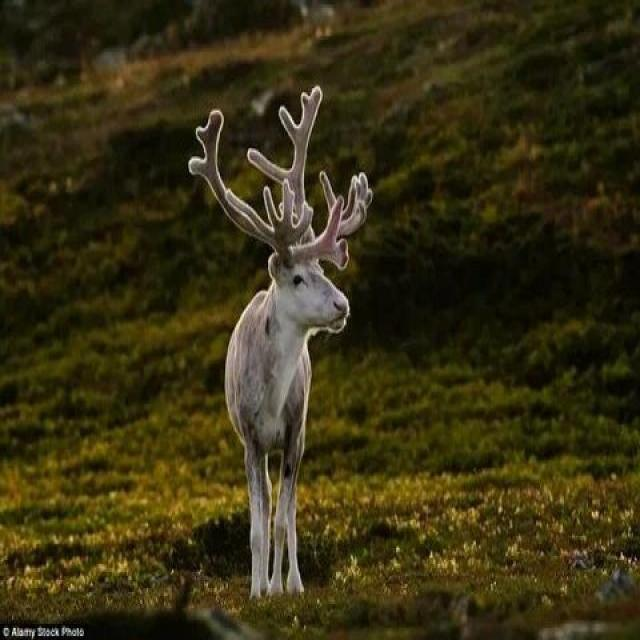deer: (157, 109, 395, 595)
